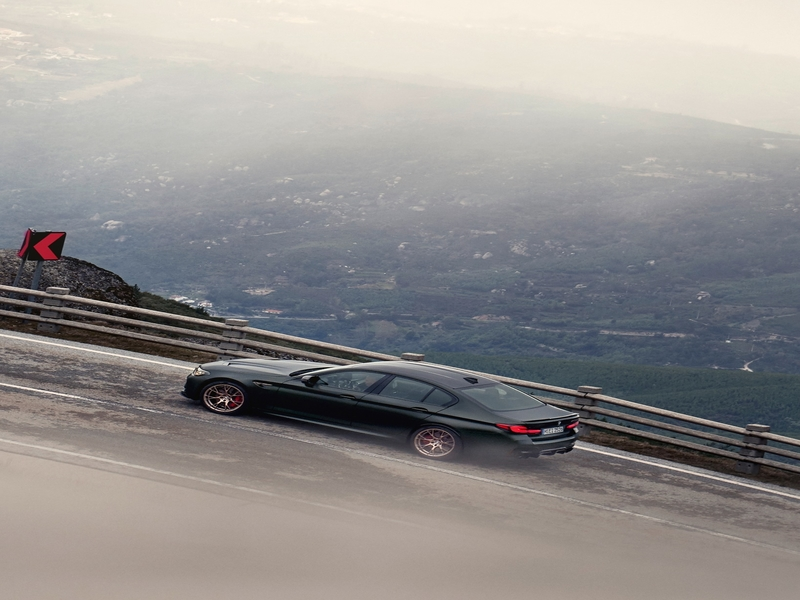car: (181, 356, 583, 465)
